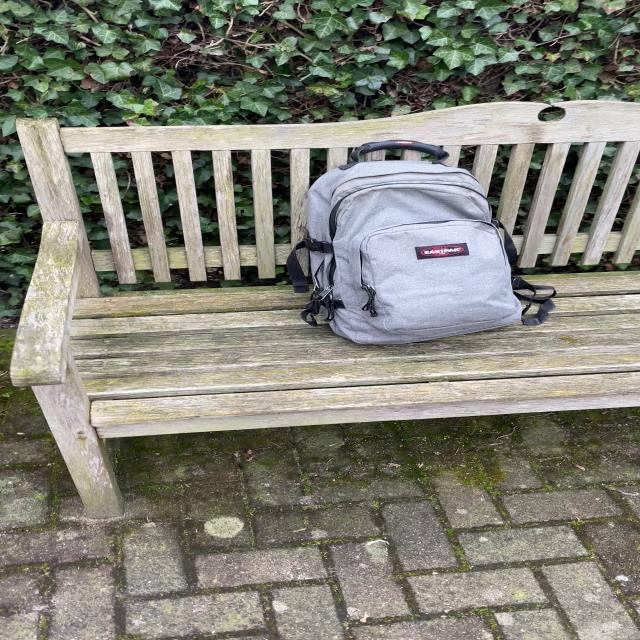backpack: (284, 134, 530, 350)
